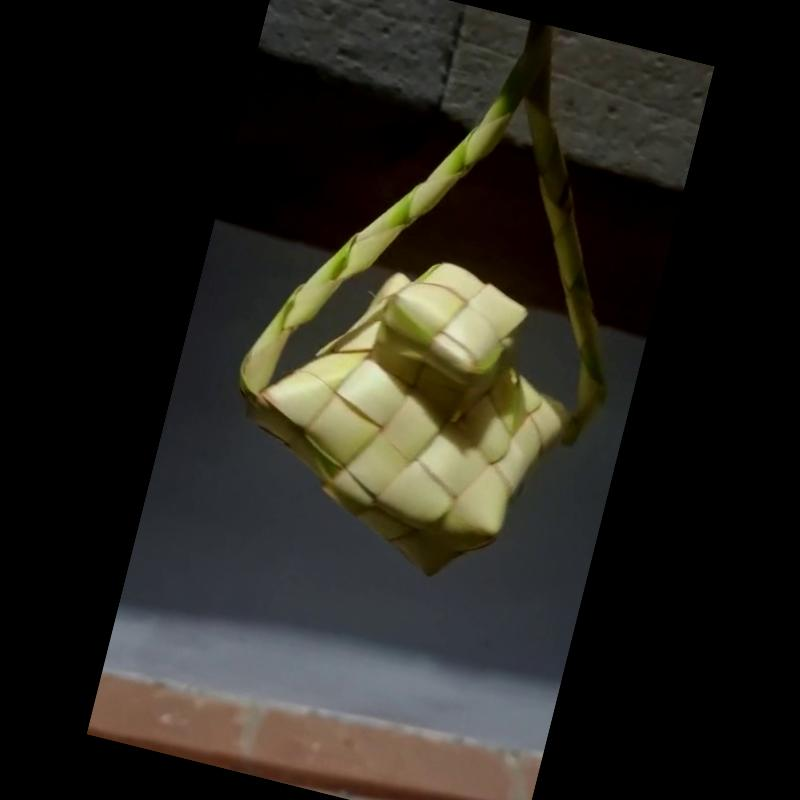Tipat Gong: (229, 20, 611, 587)
